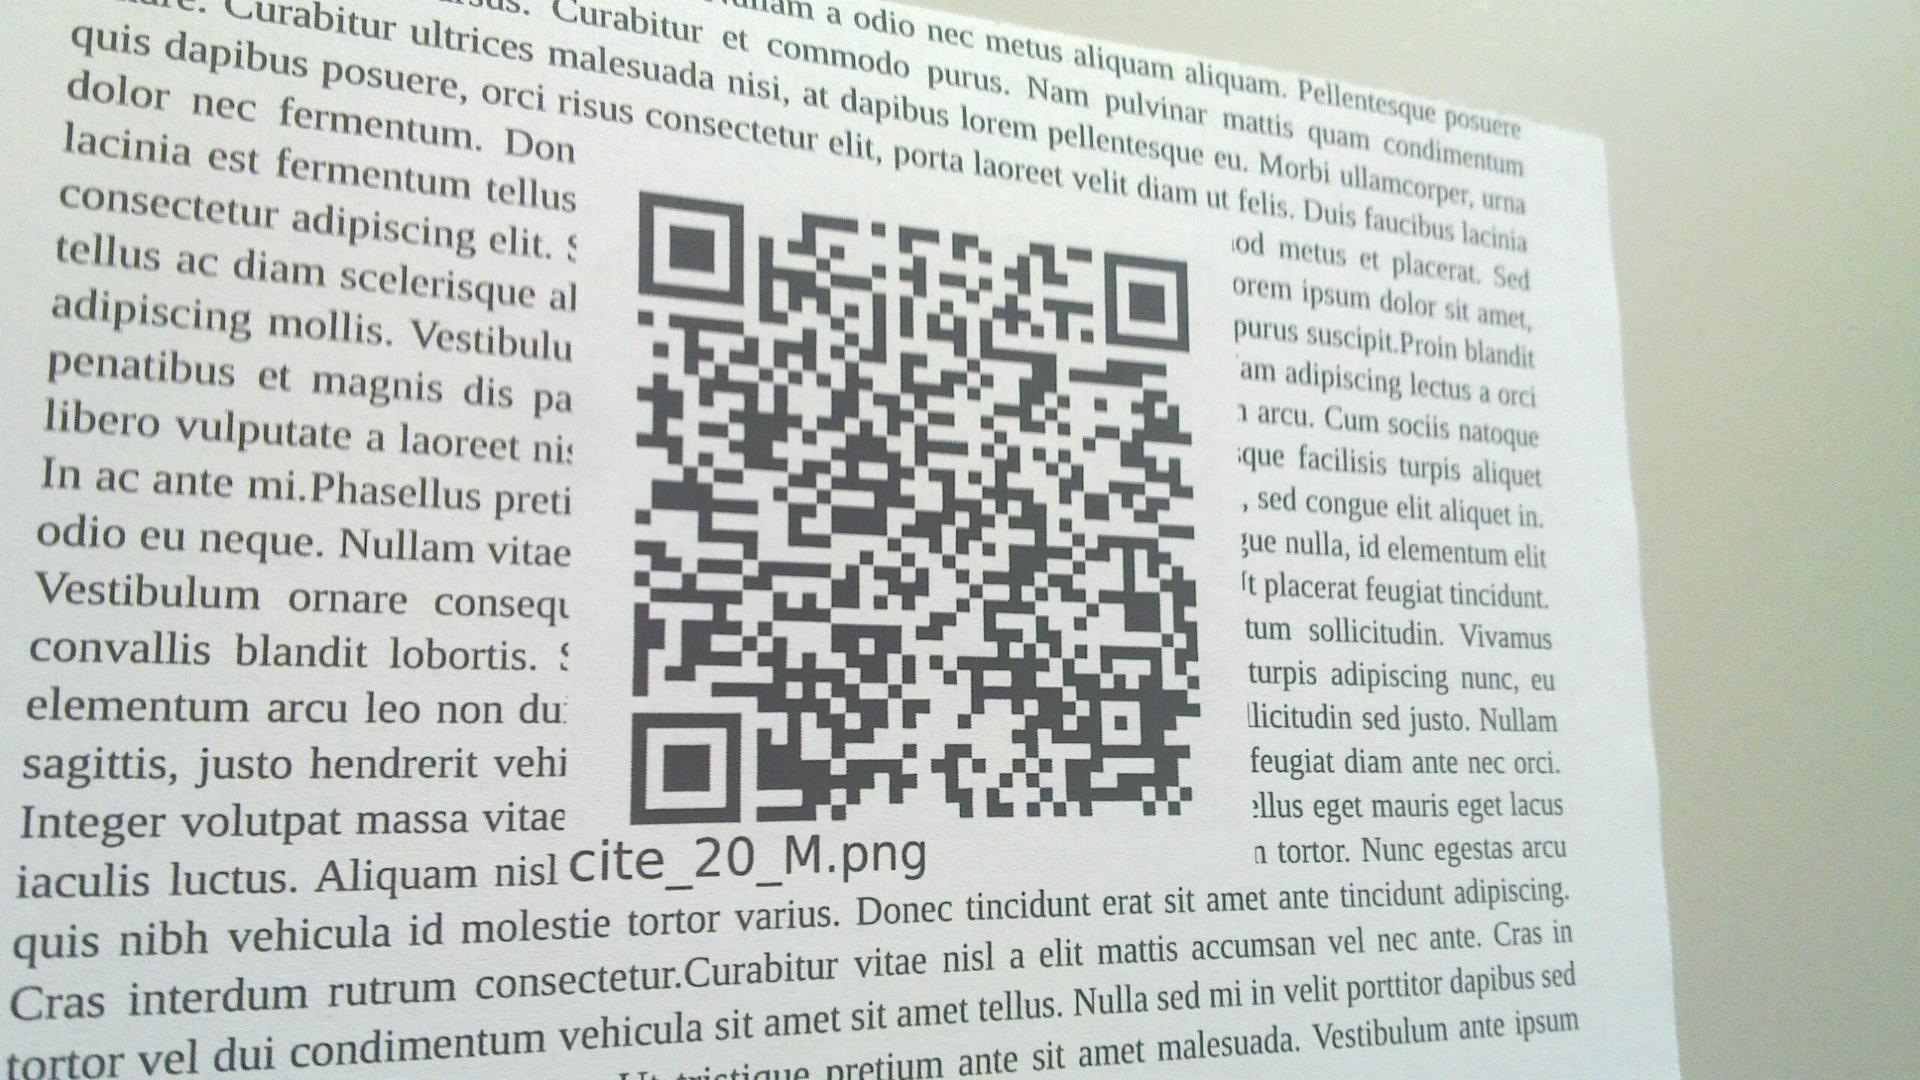Finder pattern: (620, 702, 752, 829), (629, 181, 752, 313), (1095, 244, 1193, 356)
